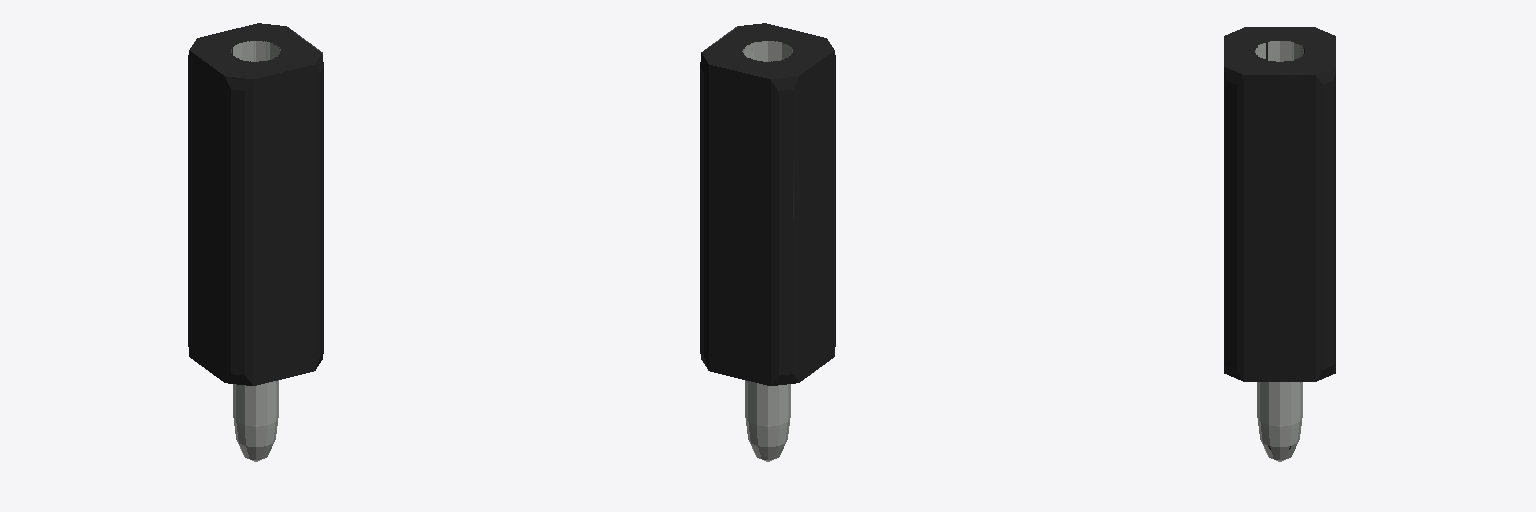
The picture shows the model from 3 angles: view 1: azimuth 30°, elevation 25°; view 2: azimuth 150°, elevation 25°; view 3: azimuth 270°, elevation 25°; orthographic projection.
Parts seen in each view (by area): view 1: 柱体; view 2: 柱体; view 3: 柱体.
Boxes of the visible parts, x1,y1,x2,y2 form: 柱体: [188, 23, 323, 461]; 柱体: [700, 23, 835, 461]; 柱体: [1224, 27, 1335, 461].
Size of the model in its own units: 0.06 by 0.2401 by 0.06.
Materials: 1 (1 with a texture image).